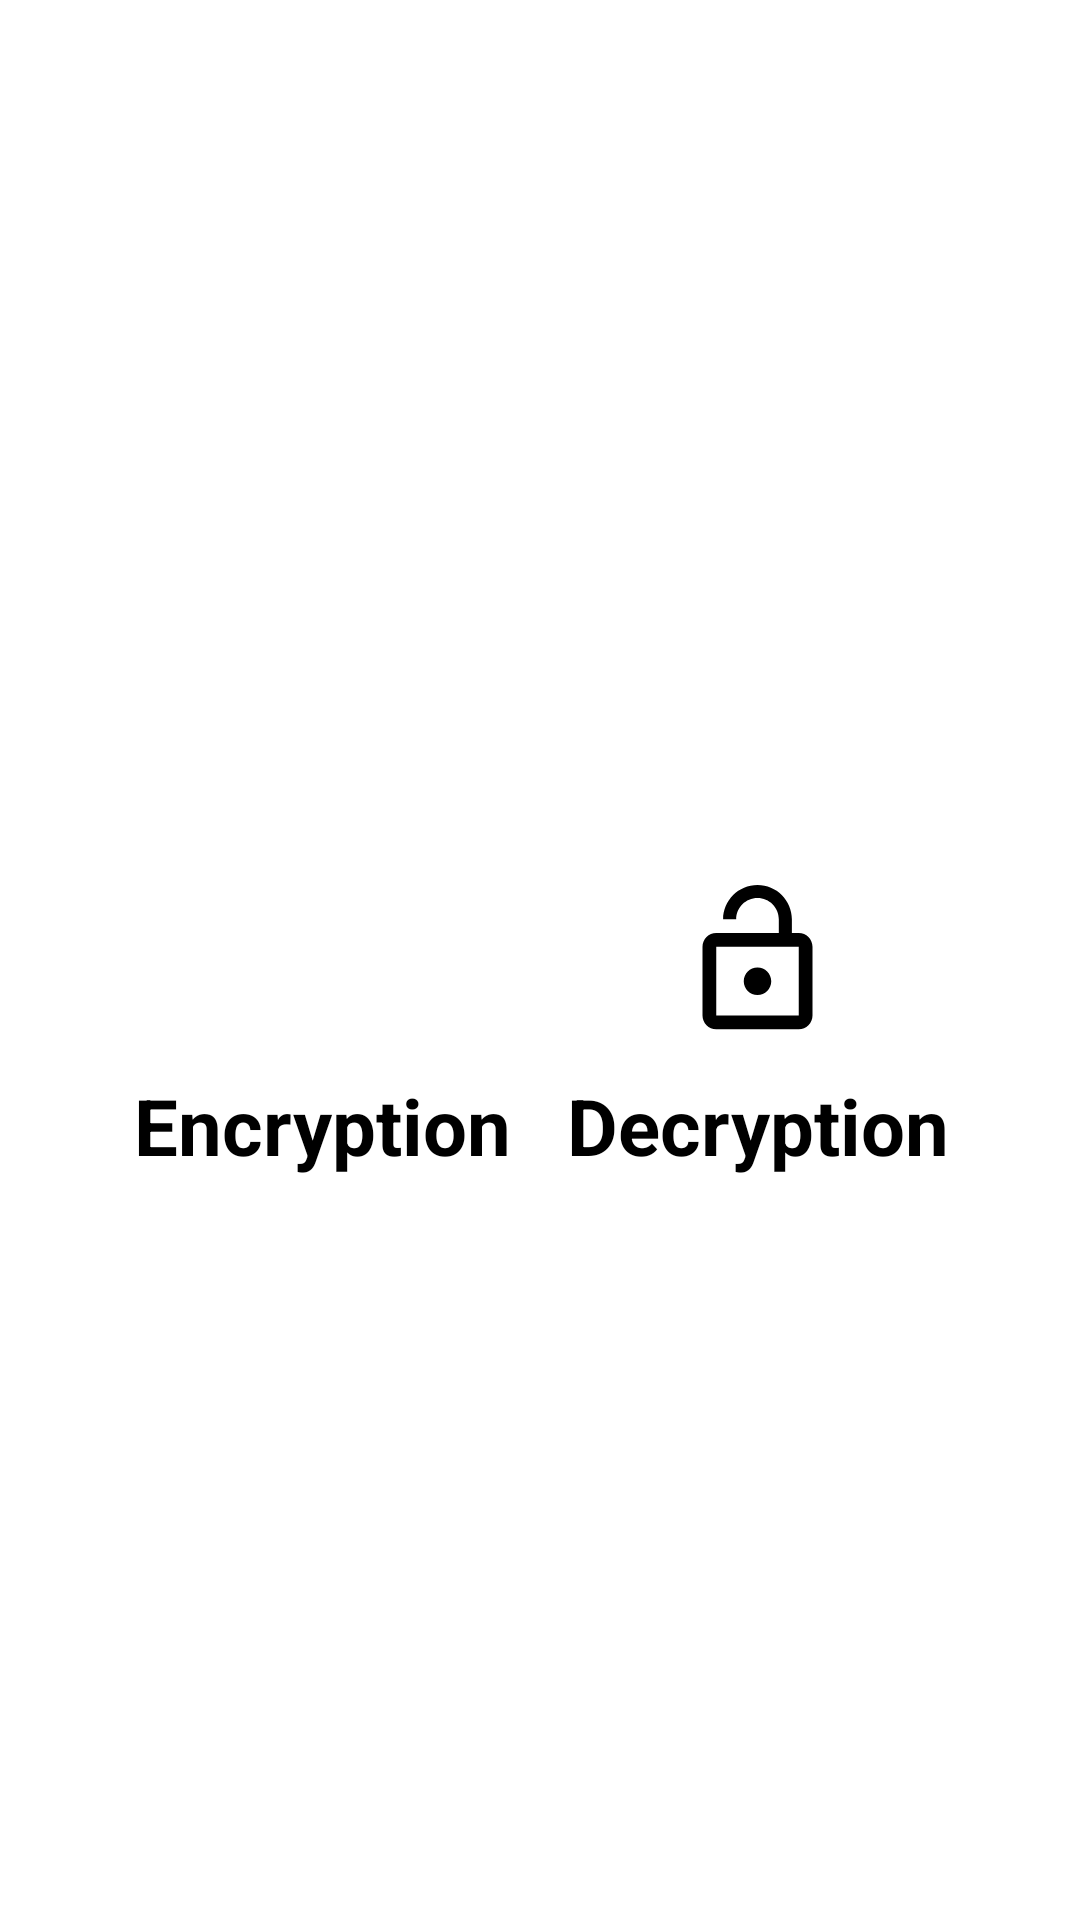

Screen size 1080*1920. Icon name, then its box in pixels as [x1,y1,x2,y2]:
lock open: [702,885,813,1030]
